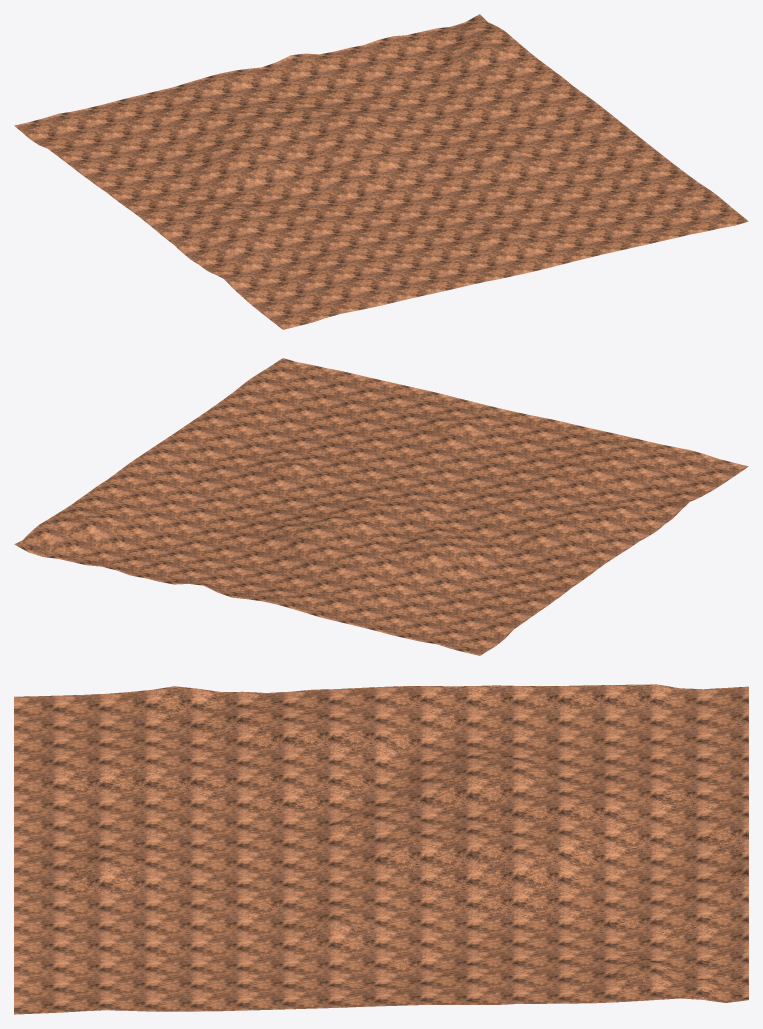
The model's file is terrain_00_02.dae.
The picture shows the model from 3 angles, top to bottom: view 1: azimuth 30°, elevation 25°; view 2: azimuth 150°, elevation 25°; view 3: azimuth 270°, elevation 25°; orthographic projection. The views are drawn at different scales.
Visible parts, largest first — view 1: terrain_00_02-node; view 2: terrain_00_02-node; view 3: terrain_00_02-node.
Part boxes in pixels (x1=…): terrain_00_02-node: x1=14, y1=14, x2=748, y2=329; terrain_00_02-node: x1=14, y1=358, x2=748, y2=655; terrain_00_02-node: x1=14, y1=684, x2=748, y2=1014.
Bounding box in the file's own units: 128 × 128 × 4.93.
1 material, 1 textured.
